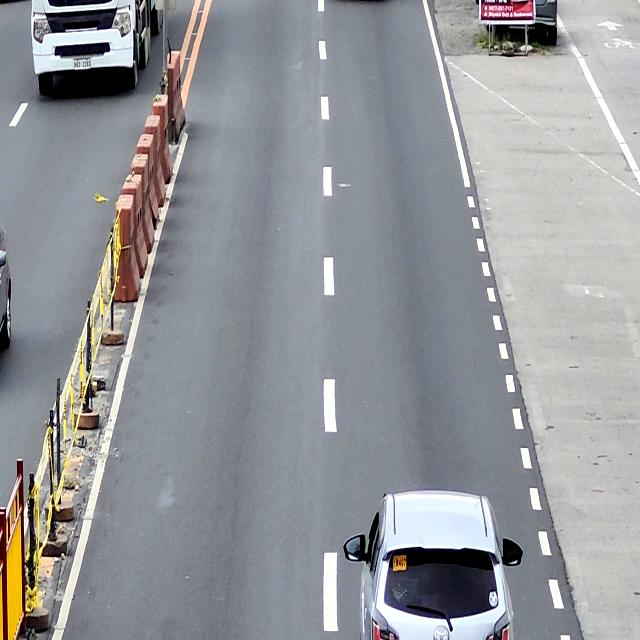Car: (344, 490, 523, 640)
License-Plate: (73, 59, 91, 70)
Truck: (30, 0, 166, 94)
